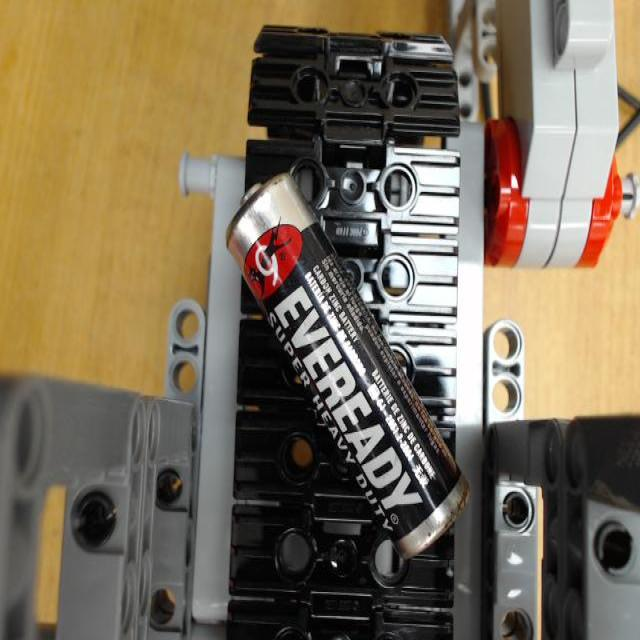AA: (226, 173, 471, 564)
